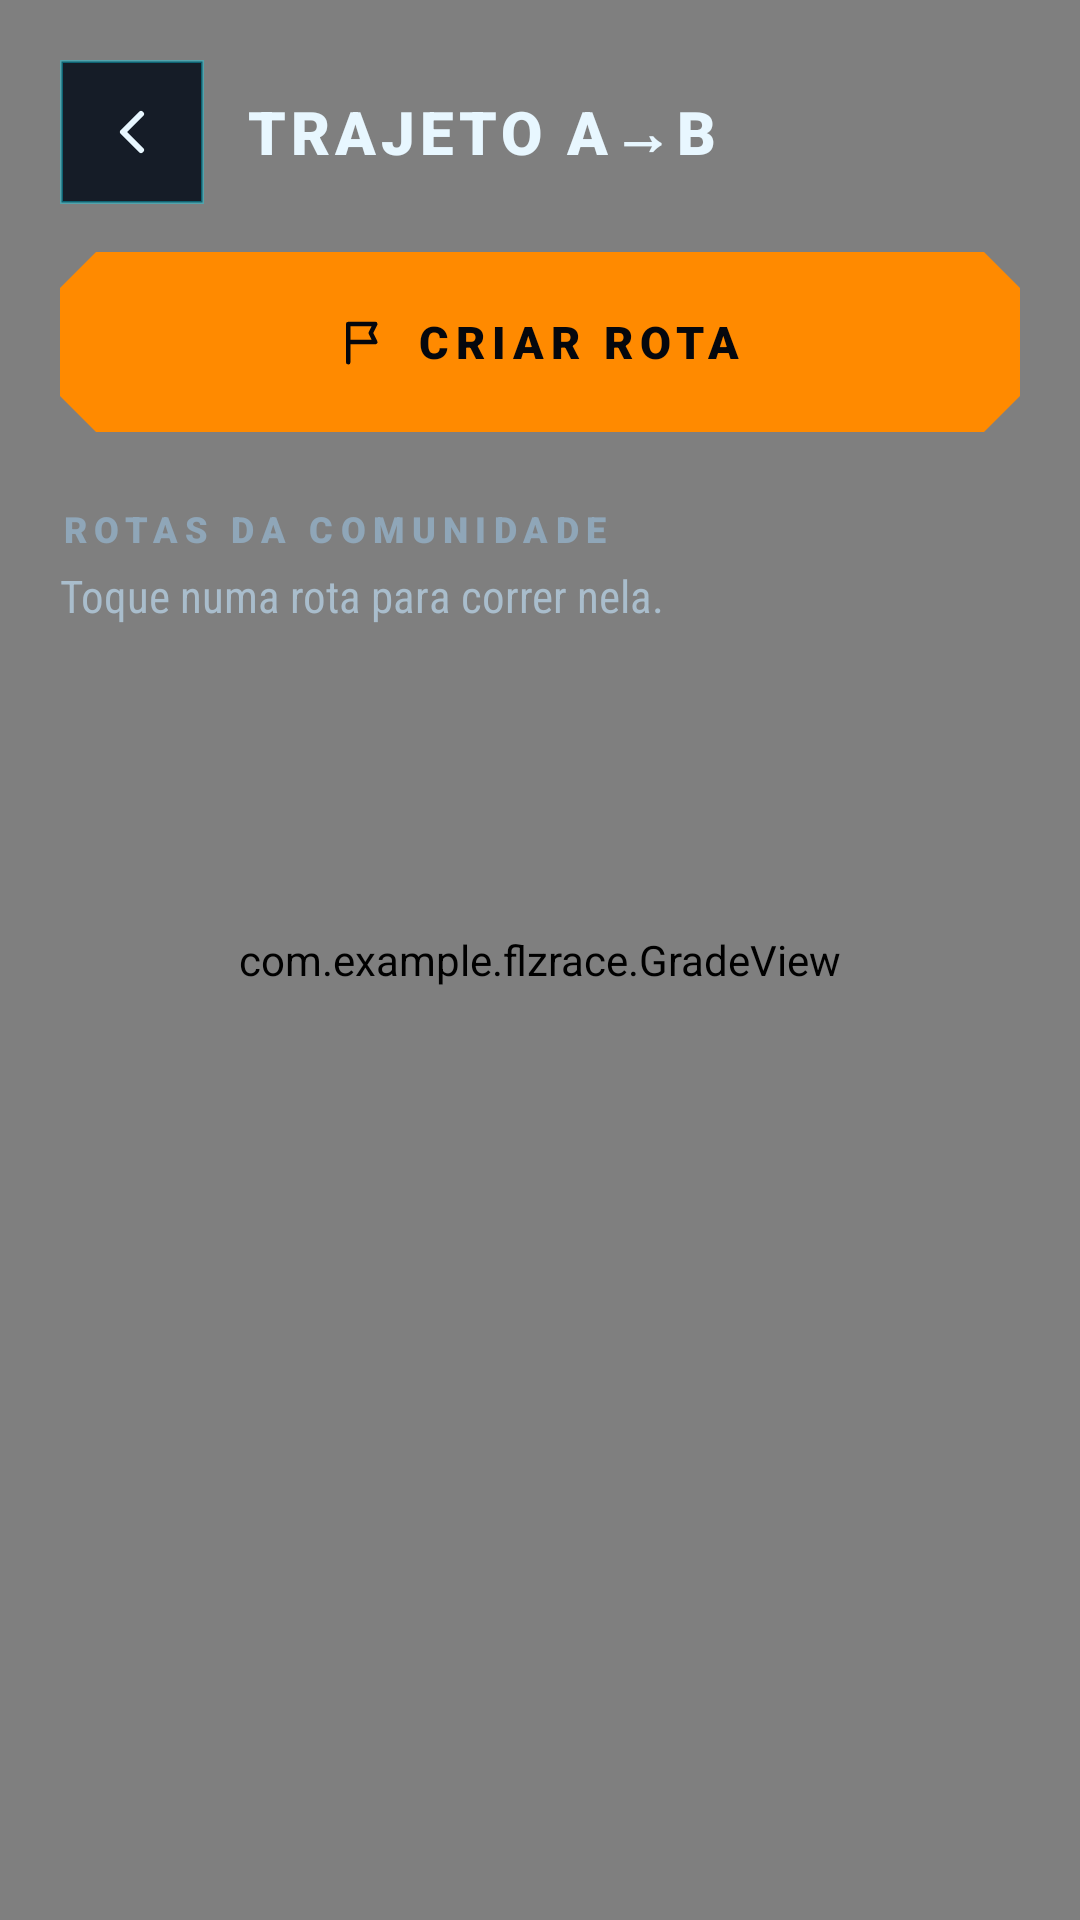

Icons on this 1080px×1920px Android screen, each with the point to tap as point (x, y):
Voltar: point (132, 132)
